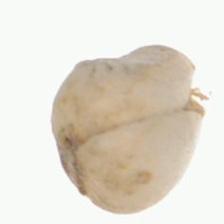L3: (184, 56, 208, 131)
L4: (50, 44, 207, 214)
